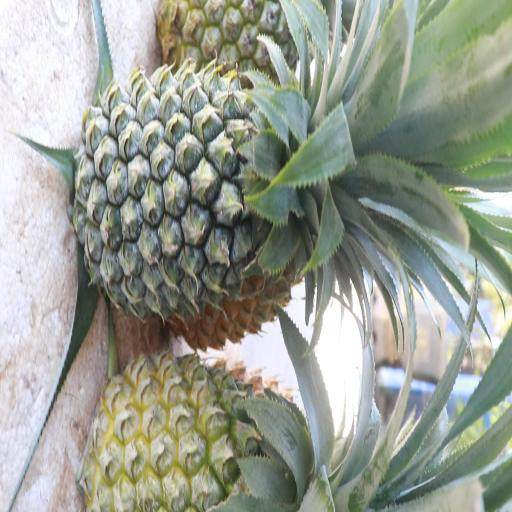------------------------------: (92, 346, 308, 512)
